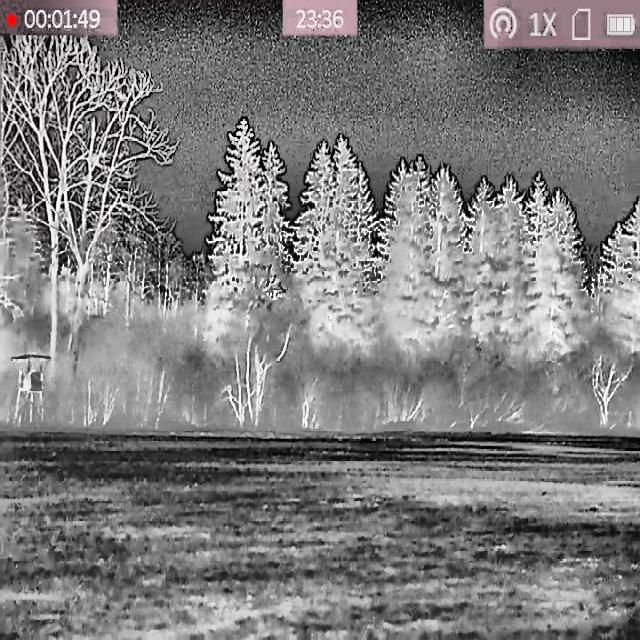drone: (266, 289, 284, 302)
